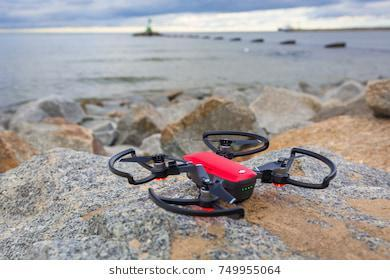drone: (102, 103, 336, 235)
